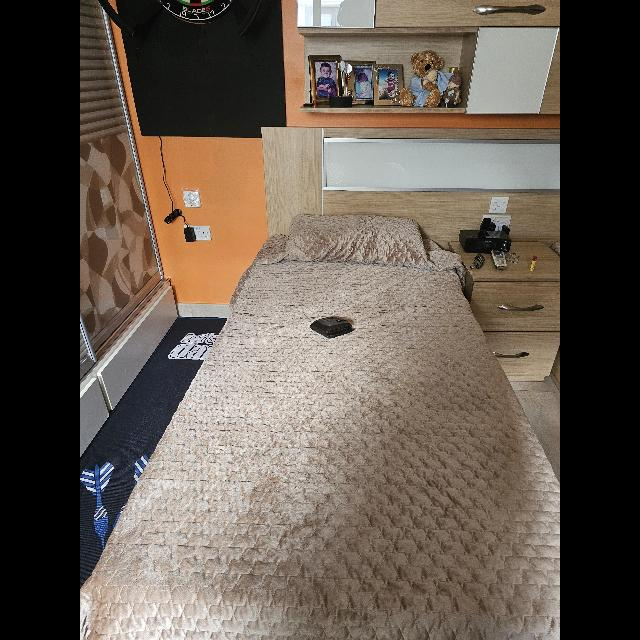Sunglasses: (469, 254, 485, 270)
Wallet: (311, 316, 354, 338)
